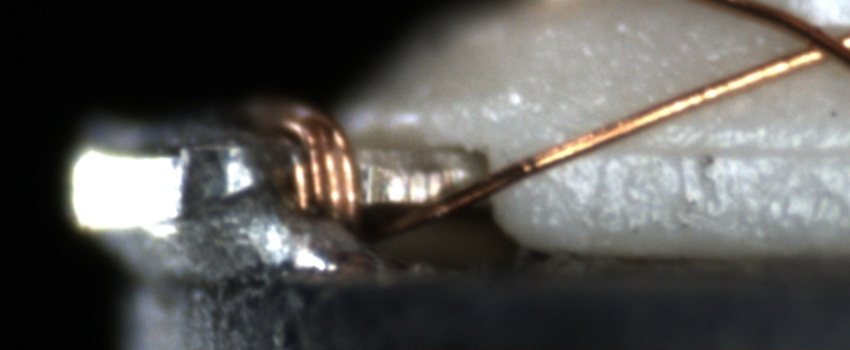CL: (775, 15, 848, 73)
DL: (602, 124, 850, 184)
TE: (247, 90, 374, 232)
